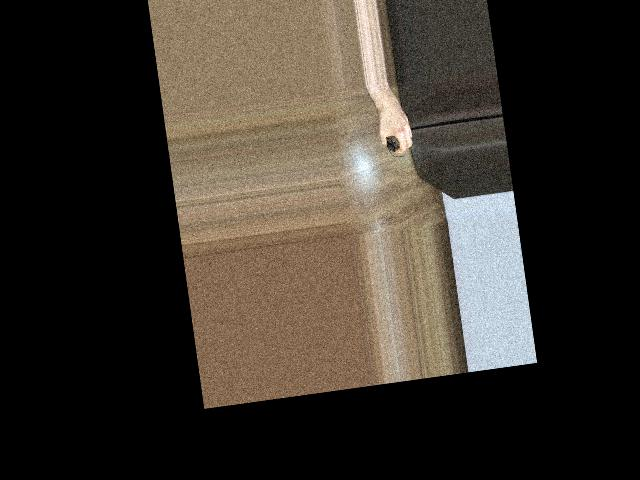beet: (385, 134, 404, 159)
